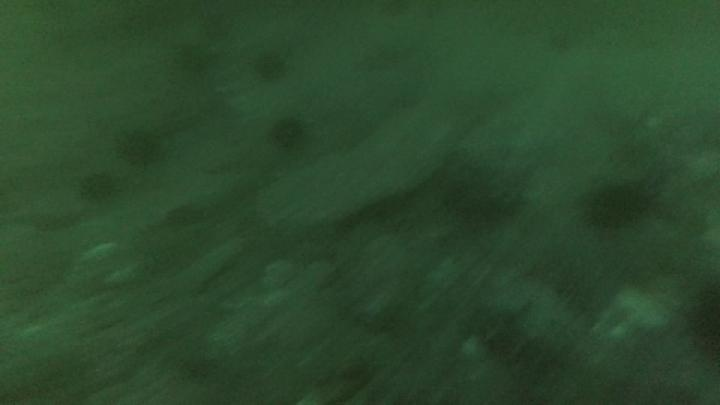echinus: (439, 156, 515, 232), (580, 176, 655, 233), (684, 276, 720, 365), (115, 125, 166, 169), (268, 114, 309, 153), (77, 168, 120, 205), (251, 47, 291, 83)
